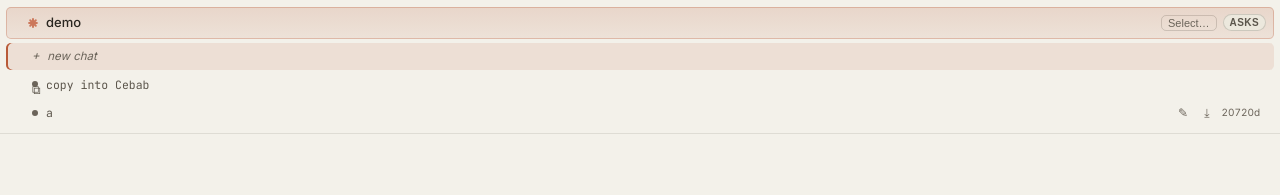
Test case: ProjectList — Delete typed-confirmation (C5-2) › the confirm input does not echo the token it is asking for (U29)
Click the button with class "session-select-toggle". click: (1189, 23)
box: 1161,15 -> 1217,31
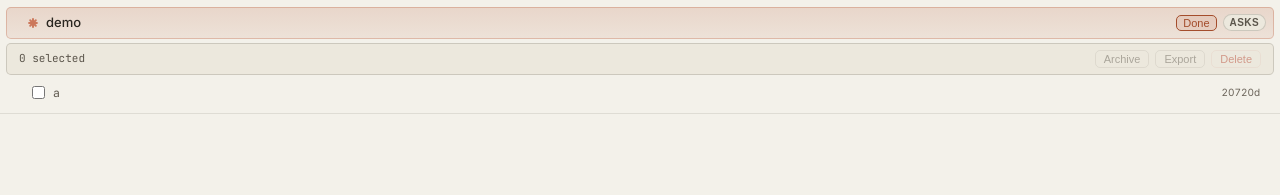
Click the list item with class "session-row". click: (640, 92)
box: 6,78 -> 1274,106
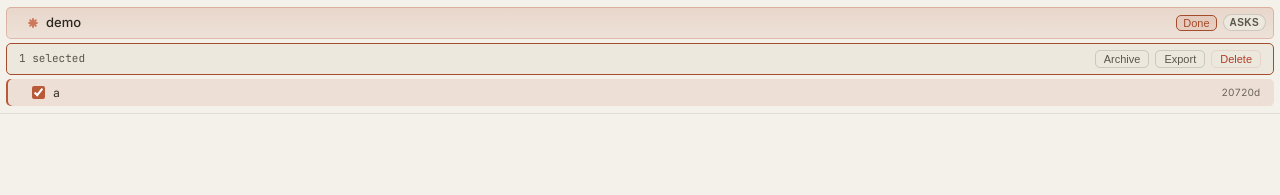
Click the button with class "bulk-action-btn" showing "Delete". click: (1236, 58)
box: 1211,50 -> 1261,68
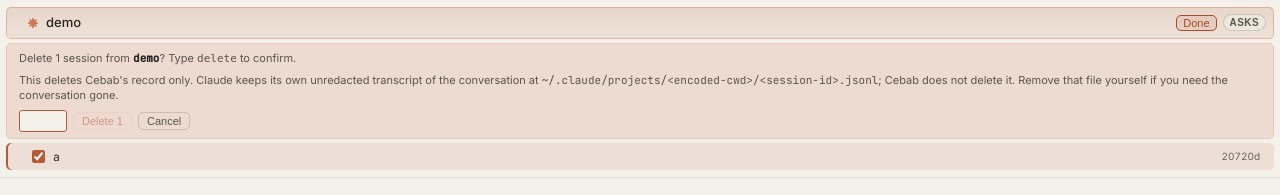
Expected: the field with class "bulk-action-confirm-input" is shown, 19,110 -> 67,132
Expected: the element with class "bulk-action-confirm-prompt" shows "Delete", 19,50 -> 55,64
Expected: the element with class "bulk-action-confirm-prompt" shows "demo", 133,50 -> 160,64
